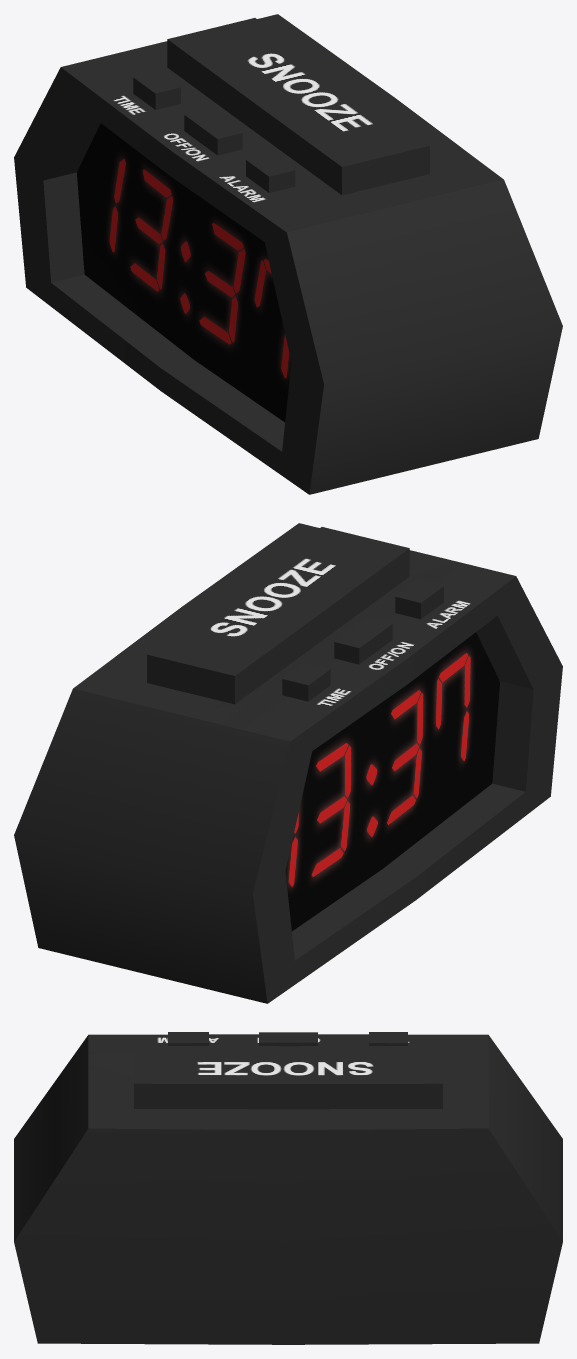
The model's file is alarm clock_Export.fbx.
3 views of the same model, one above another, from view 1: azimuth 30°, elevation 25°; view 2: azimuth 150°, elevation 25°; view 3: azimuth 270°, elevation 25° (orthographic). The views are drawn at different scales.
Visible parts, largest first — view 1: pCube8; view 2: pCube8; view 3: pCube8.
Boxes of the visible parts, x1=… form: pCube8: x1=14, y1=14, x2=562, y2=494; pCube8: x1=14, y1=523, x2=562, y2=1003; pCube8: x1=14, y1=1032, x2=562, y2=1344.
Size of the model in its own units: 0.2443 by 0.2524 by 0.5315.
